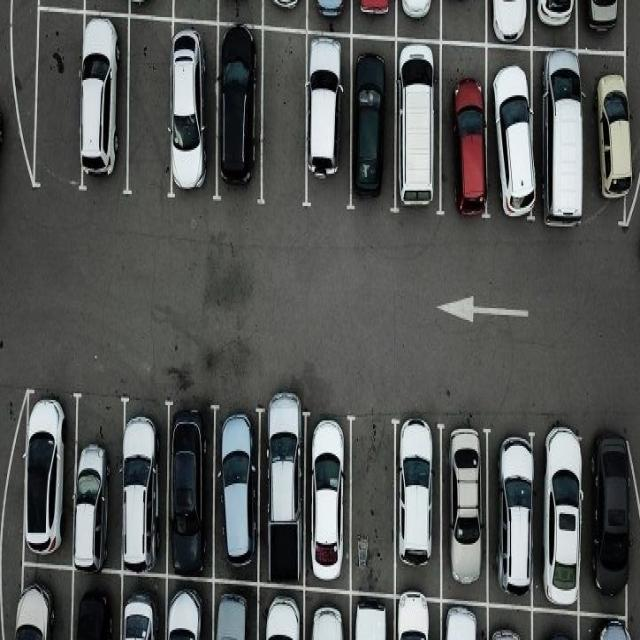space-empty: (124, 15, 178, 199), (348, 415, 399, 596), (36, 9, 87, 190), (261, 30, 312, 208)
space-occupied: (580, 432, 638, 616), (76, 8, 131, 195), (213, 24, 265, 206), (528, 42, 579, 222), (258, 403, 308, 586), (28, 388, 78, 567), (395, 424, 445, 596), (122, 392, 168, 574), (172, 16, 218, 196), (310, 32, 355, 214), (486, 47, 532, 221), (580, 48, 624, 226), (488, 428, 532, 604), (352, 32, 394, 214), (444, 424, 486, 606), (397, 40, 439, 218), (79, 392, 121, 568), (534, 435, 576, 609), (168, 408, 210, 578), (442, 49, 486, 210), (306, 418, 348, 581), (218, 407, 255, 583)
